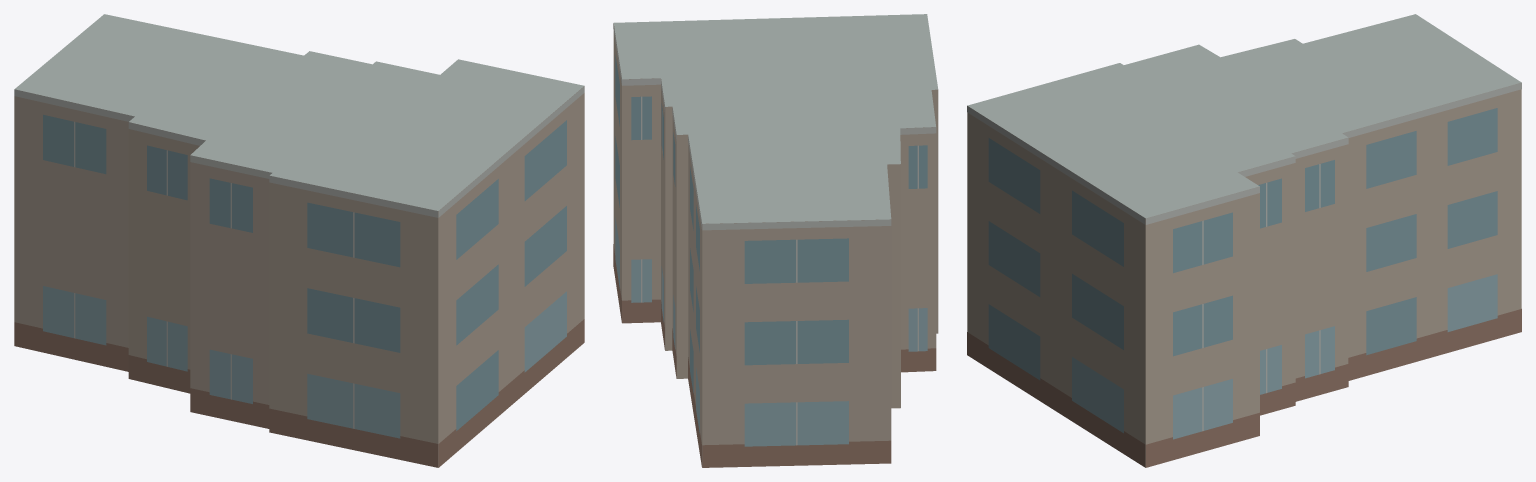
The model's file is survey-upis-32951456.glb.
3 renders of one model, left to right at view 1: azimuth 30°, elevation 25°; view 2: azimuth 150°, elevation 25°; view 3: azimuth 270°, elevation 25°, orthographic. The views are drawn at different scales.
Visible parts, largest first — view 1: survey-upis-32951456.tmp; view 2: survey-upis-32951456.tmp; view 3: survey-upis-32951456.tmp.
Part boxes in pixels (x1=…): survey-upis-32951456.tmp: x1=14, y1=14, x2=584, y2=467; survey-upis-32951456.tmp: x1=613, y1=14, x2=938, y2=467; survey-upis-32951456.tmp: x1=967, y1=14, x2=1521, y2=467.
Size of the model in its own units: 16.09 by 9.15 by 18.45.
